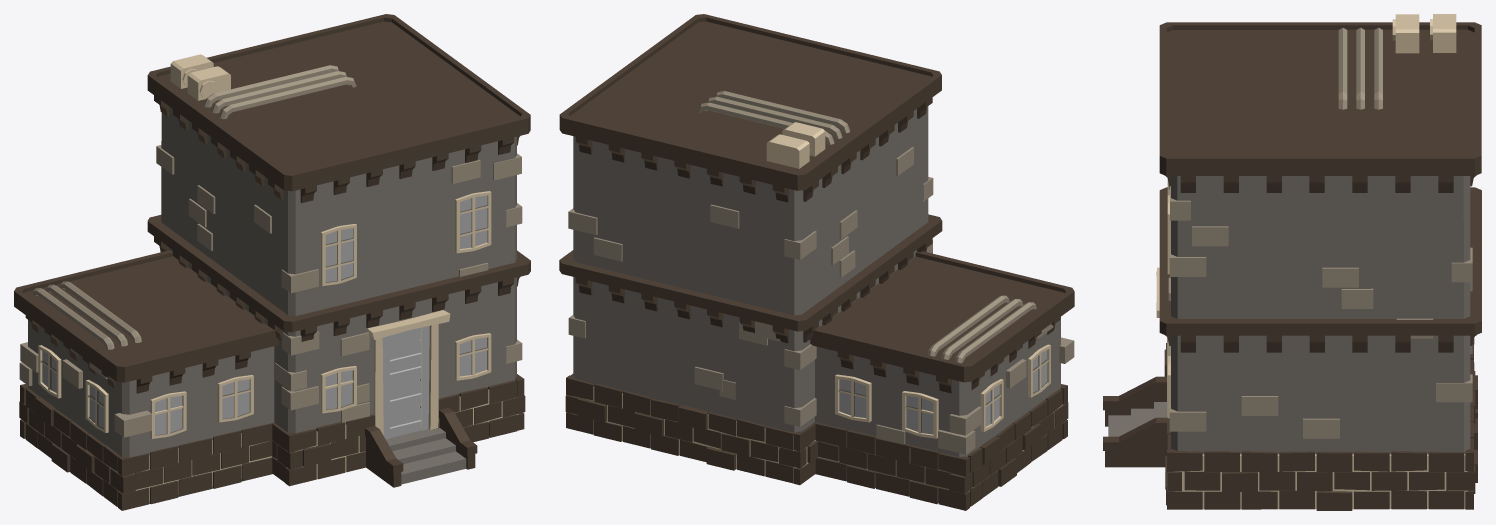
Rendered from sidehouse.fbx.
3 views of the same model, side by side, from view 1: azimuth 30°, elevation 25°; view 2: azimuth 150°, elevation 25°; view 3: azimuth 270°, elevation 25° (orthographic). The views are drawn at different scales.
Visible parts, largest first — view 1: _2Story_Sidehouse_Mat; view 2: _2Story_Sidehouse_Mat; view 3: _2Story_Sidehouse_Mat.
Boxes of the visible parts, left/top/right/bottom form: _2Story_Sidehouse_Mat: left=14, top=14, right=530, bottom=510; _2Story_Sidehouse_Mat: left=559, top=14, right=1074, bottom=510; _2Story_Sidehouse_Mat: left=1103, top=14, right=1481, bottom=510.
Bounding box in the file's own units: 1481 × 1178 × 1081.
